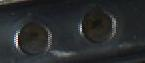joints: (13, 16, 55, 57), (77, 4, 118, 44)
